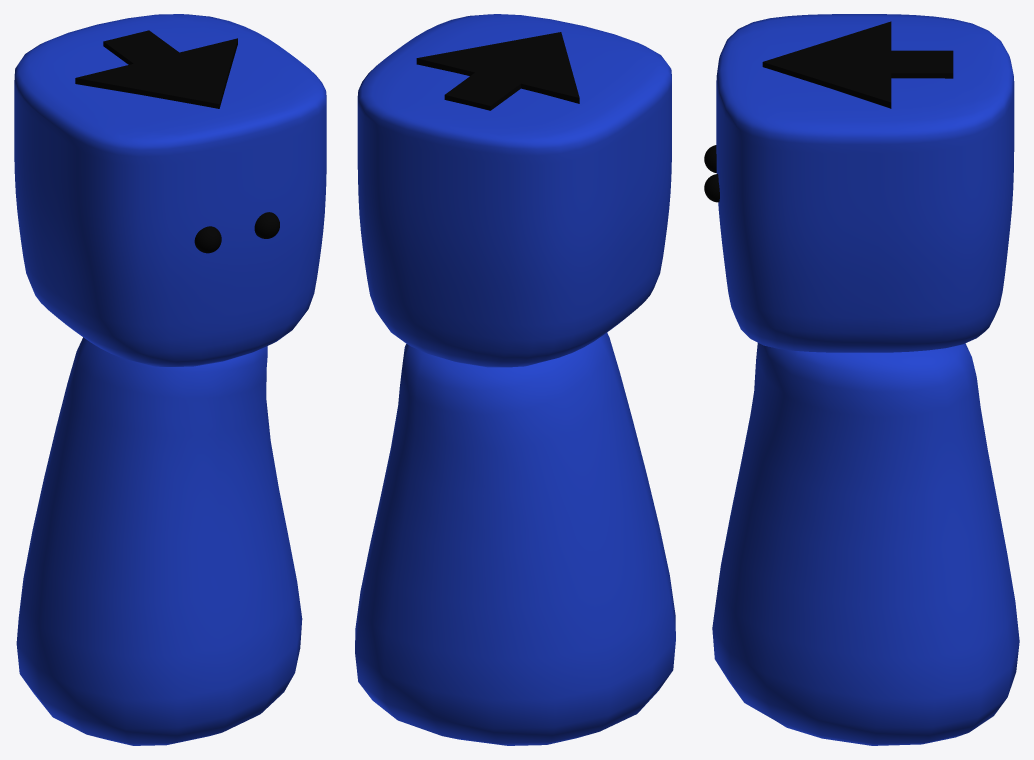
File: Character 1.obj
The picture shows the model from 3 angles, left to right: view 1: azimuth 30°, elevation 25°; view 2: azimuth 150°, elevation 25°; view 3: azimuth 270°, elevation 25°; orthographic projection. The views are drawn at different scales.
Parts seen in each view (by area): view 1: 1_Cube.002_Cube.022_Cube.002_Cube.002, 2_Cube.002_Cube.022_Cube.002_Cube.001; view 2: 1_Cube.002_Cube.022_Cube.002_Cube.002, 2_Cube.002_Cube.022_Cube.002_Cube.001; view 3: 1_Cube.002_Cube.022_Cube.002_Cube.002, 2_Cube.002_Cube.022_Cube.002_Cube.001.
Boxes of the visible parts, bbox=[...] form: 1_Cube.002_Cube.022_Cube.002_Cube.002: bbox=[14, 14, 326, 745]; 2_Cube.002_Cube.022_Cube.002_Cube.001: bbox=[75, 30, 279, 253]; 1_Cube.002_Cube.022_Cube.002_Cube.002: bbox=[355, 14, 675, 745]; 2_Cube.002_Cube.022_Cube.002_Cube.001: bbox=[416, 32, 579, 110]; 1_Cube.002_Cube.022_Cube.002_Cube.002: bbox=[712, 14, 1019, 745]; 2_Cube.002_Cube.022_Cube.002_Cube.001: bbox=[704, 21, 953, 202].
Size of the model in its own units: 0.2098 by 0.4931 by 0.2151.
